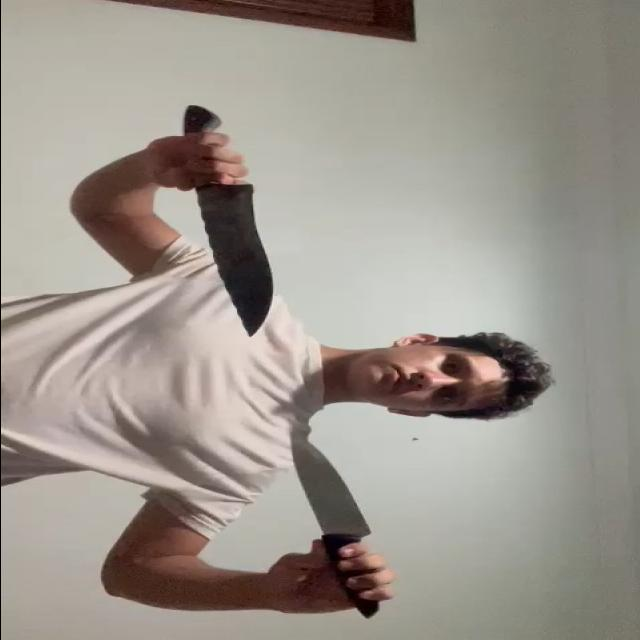Knife: (175, 102, 278, 338), (285, 435, 399, 621)
